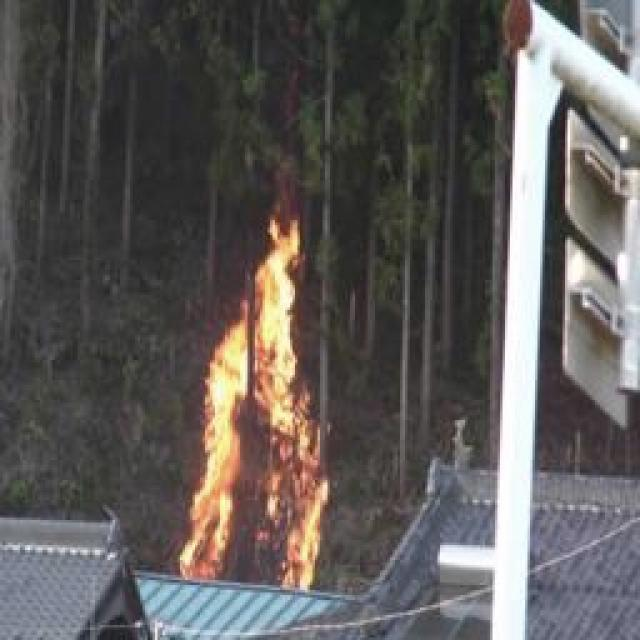Fire: (188, 215, 336, 588)
